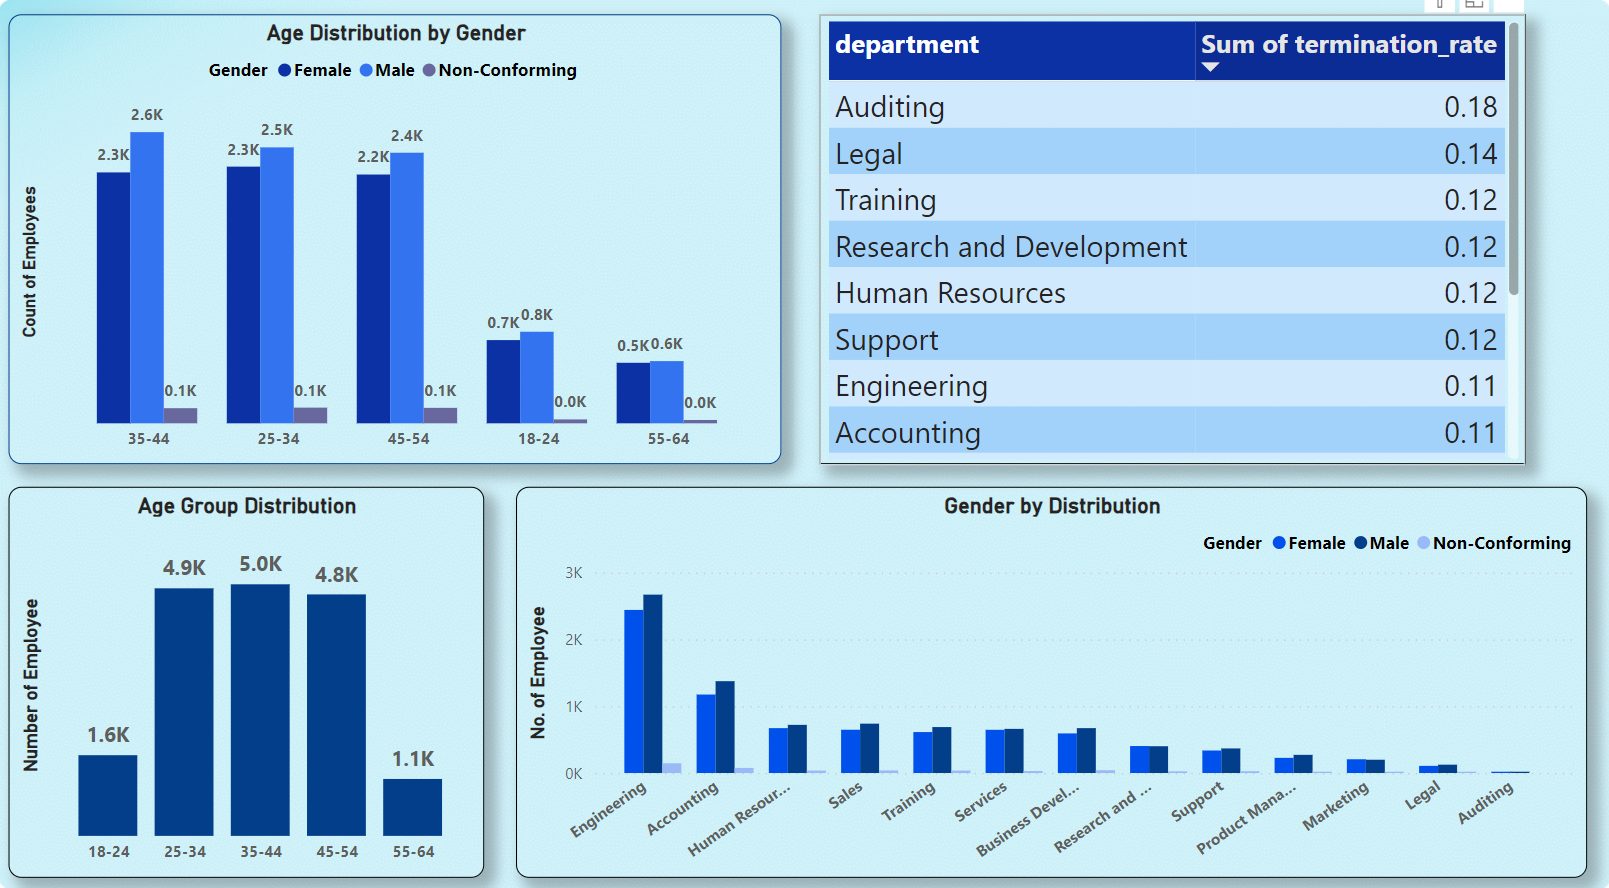

The dashboard page shown, as its layout file describes it:
{"tool":"powerbi","page":{"name":"Page 2","canvas":[1280,720],"ordinal":1},"visuals":[{"type":"columnChart","title":"Age Group Distribution ","fields":{"Y":["Sum(age_group.count)"],"Category":["age_group.age_group"]},"box":[21.6,390.1,368.6,302.9],"z":0},{"type":"clusteredColumnChart","title":"Age Distribution by Gender","fields":{"Category":["age_group_gender.age_group"],"Y":["Sum(age_group_gender.count)"],"Series":["age_group_gender.gender"]},"box":[21.6,24.6,599.6,349.1],"z":1000},{"type":"tableEx","fields":{"Values":["turnover_rate.department","Sum(turnover_rate.termination_rate)"]},"box":[649.9,24.6,547.2,349.1],"z":2000},{"type":"clusteredColumnChart","title":"Gender by Distribution","fields":{"Y":["Sum(gender_department.count)"],"Category":["gender_department.department"],"Series":["gender_department.gender"]},"box":[414.8,390.1,830.5,302.9],"z":3000}]}

Visuals, with their boxes in screenshot pixels (x1, y1, x2, y2), scaled from the page's 1280x720 canvas onto the 1609x888 screenshot:
"Age Group Distribution " columnChart: bbox=(27, 481, 490, 855)
"Age Distribution by Gender" clusteredColumnChart: bbox=(27, 30, 781, 461)
tableEx - turnover_rate.department x Sum(turnover_rate.termination_rate): bbox=(817, 30, 1505, 461)
"Gender by Distribution" clusteredColumnChart: bbox=(521, 481, 1565, 855)
